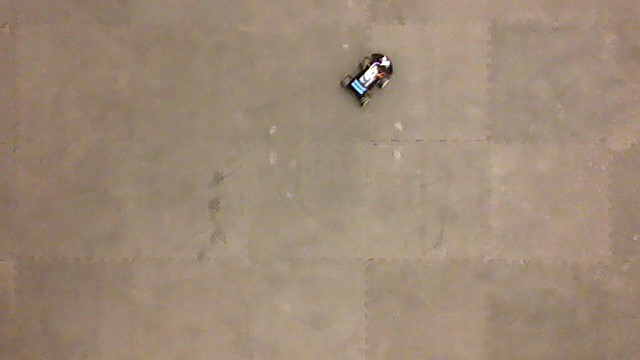Agent: (339, 52, 395, 108)
